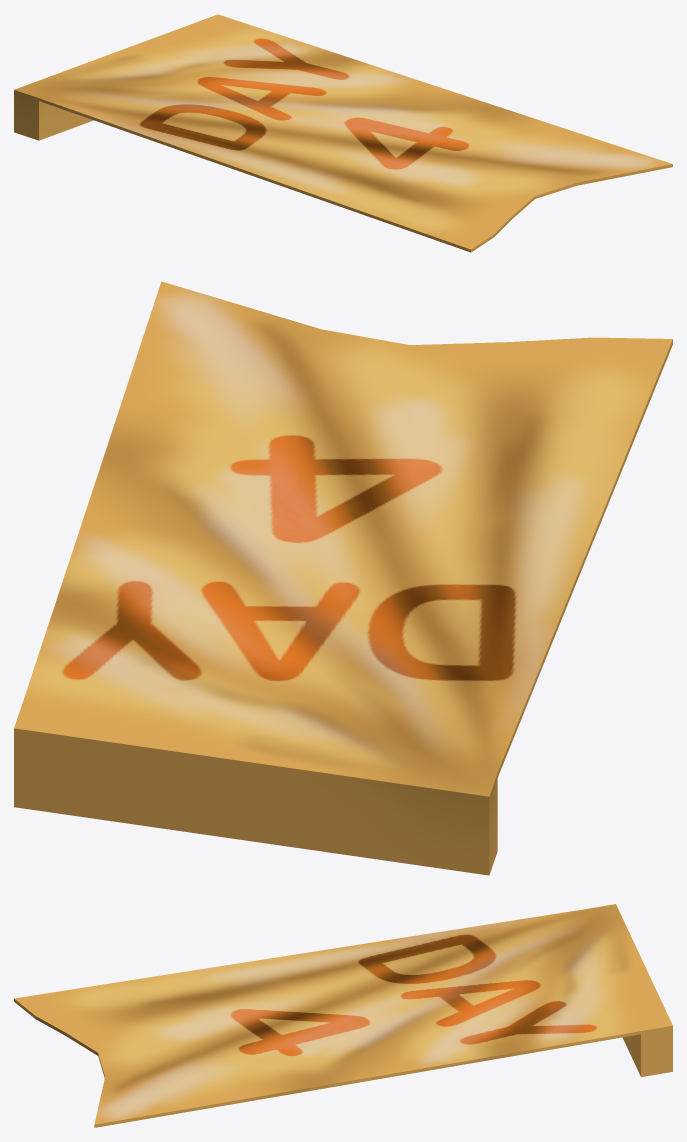
File: level_select_bookmark_4.glb
3 renders of one model, top to bottom at view 1: azimuth 30°, elevation 25°; view 2: azimuth 150°, elevation 25°; view 3: azimuth 270°, elevation 25°, orthographic. The views are drawn at different scales.
Parts seen in each view (by area): view 1: Cube; view 2: Cube; view 3: Cube.
Boxes of the visible parts, left/top/right/bottom form: Cube: left=14, top=14, right=672, bottom=252; Cube: left=14, top=281, right=672, bottom=875; Cube: left=14, top=904, right=672, bottom=1127.
Size of the model in its own units: 0.6273 by 0.0611 by 0.7912.
1 material, 1 textured.
